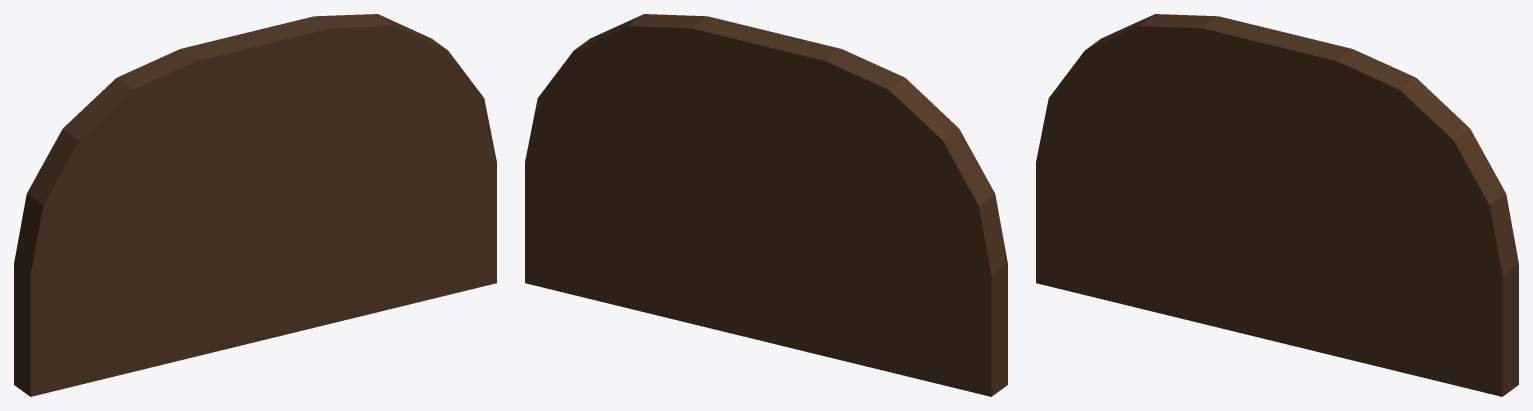
File: Porte_Grand_arbrefbx.fbx
3 renders of one model, left to right at view 1: azimuth 30°, elevation 25°; view 2: azimuth 150°, elevation 25°; view 3: azimuth 330°, elevation 25°, orthographic.
Parts seen in each view (by area): view 1: Porte Arbre; view 2: Porte Arbre; view 3: Porte Arbre.
Boxes of the visible parts, x1,y1,x2,y2 form: Porte Arbre: (14,14,496,396); Porte Arbre: (525,14,1007,396); Porte Arbre: (1036,14,1518,396).
Bounding box in the file's own units: 200 × 121 × 12.24.
